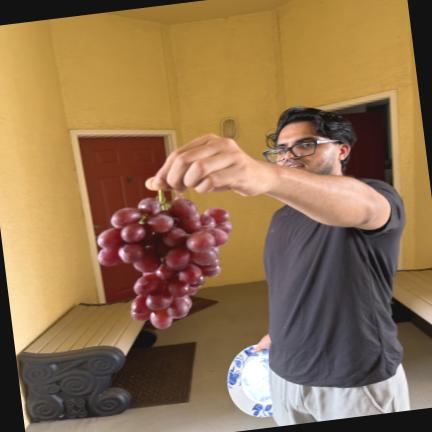grape_cluster: (97, 190, 232, 328)
